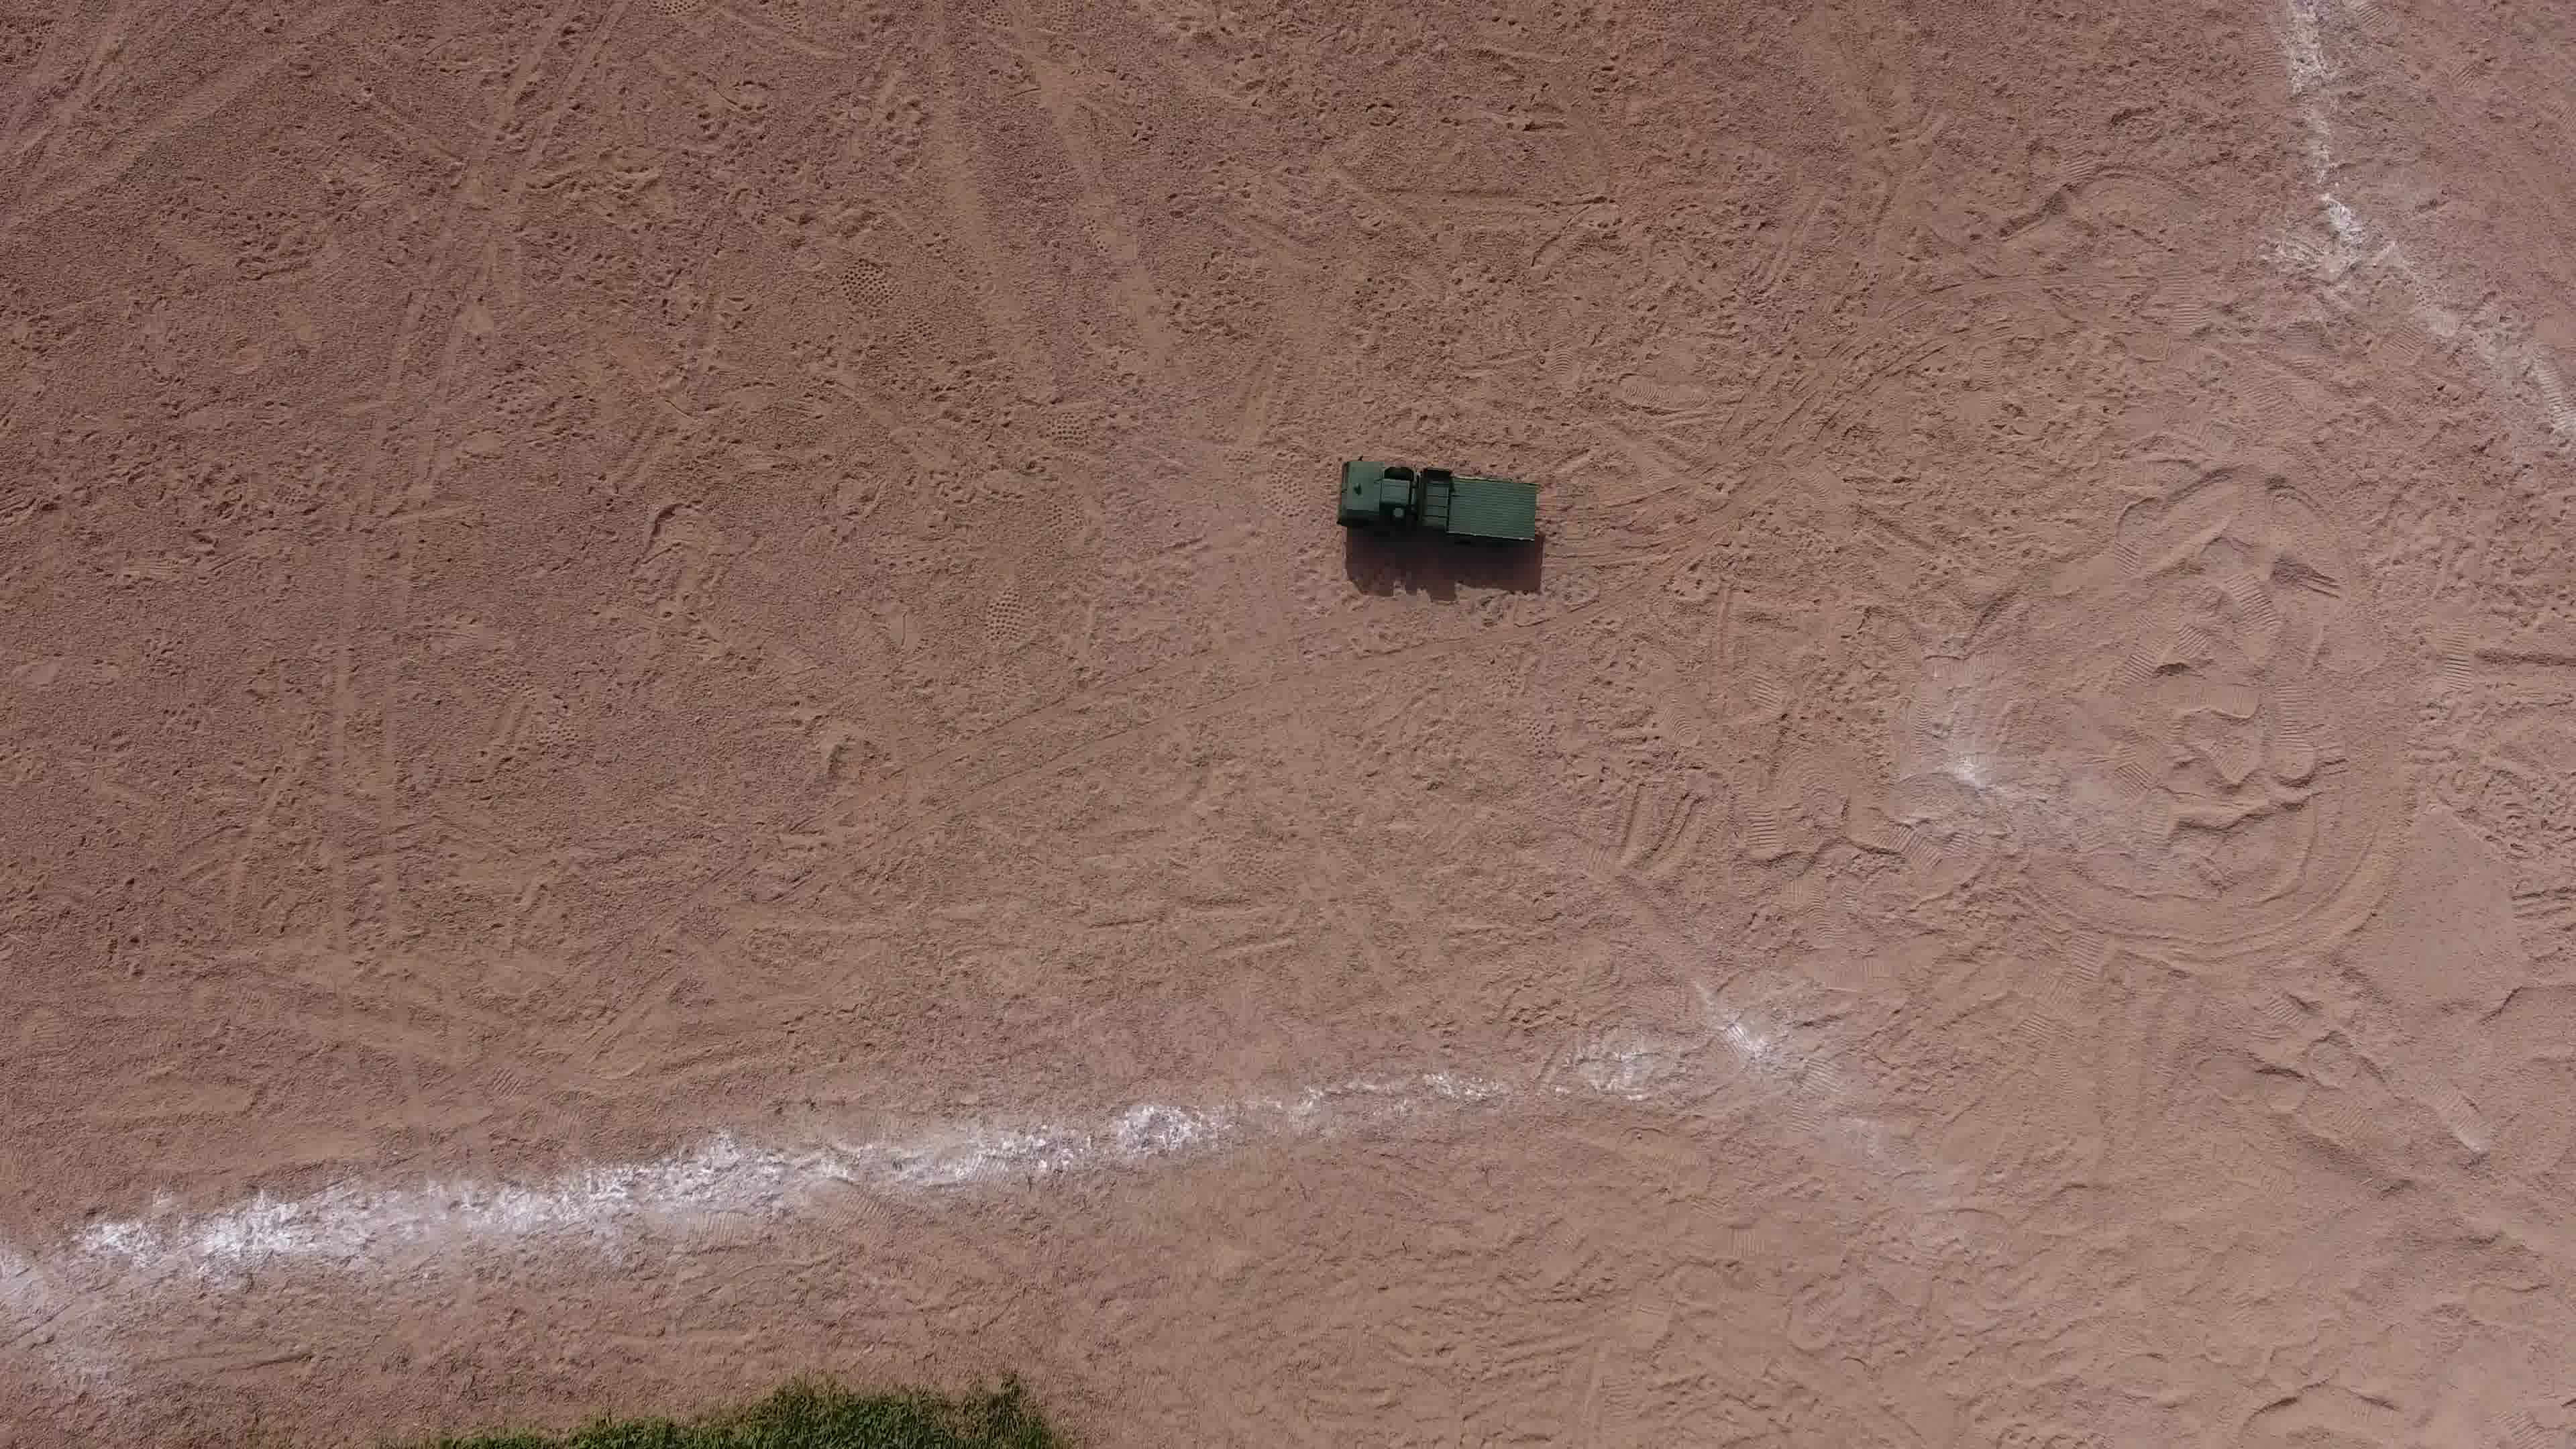transporter9: (1327, 444, 1559, 584)
